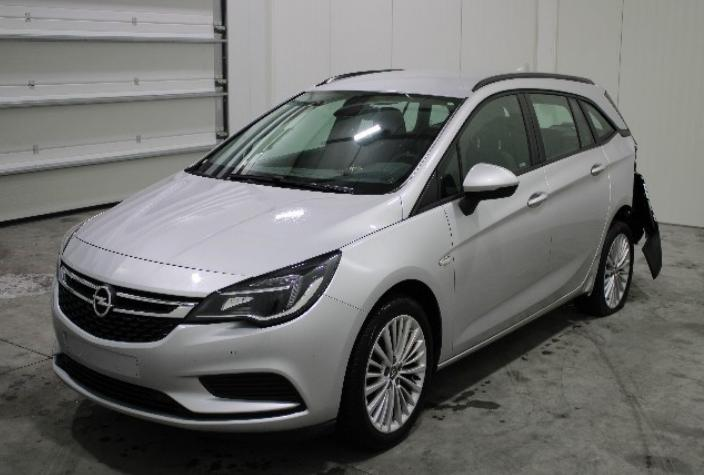Back-bumper: (631, 170, 662, 280)
Back-door: (522, 88, 610, 303)
Back-wheel: (576, 221, 634, 317)
Back-window: (529, 93, 596, 159), (582, 101, 615, 139)
Fender: (323, 205, 455, 363)
Front-bumper: (51, 281, 368, 432)
Front-door: (437, 88, 552, 355)
Front-wheel: (340, 294, 433, 449)
Front-window: (441, 95, 532, 199)
Grille: (58, 259, 204, 342)
Headlight: (186, 249, 341, 328), (61, 220, 86, 255)
Hood: (62, 170, 402, 297)
Mirror: (458, 162, 518, 216)
Quarter-panel: (590, 130, 635, 269)
Rocker-panel: (436, 270, 597, 373)
Roof: (304, 69, 594, 98)
Windshield: (187, 91, 467, 195)
